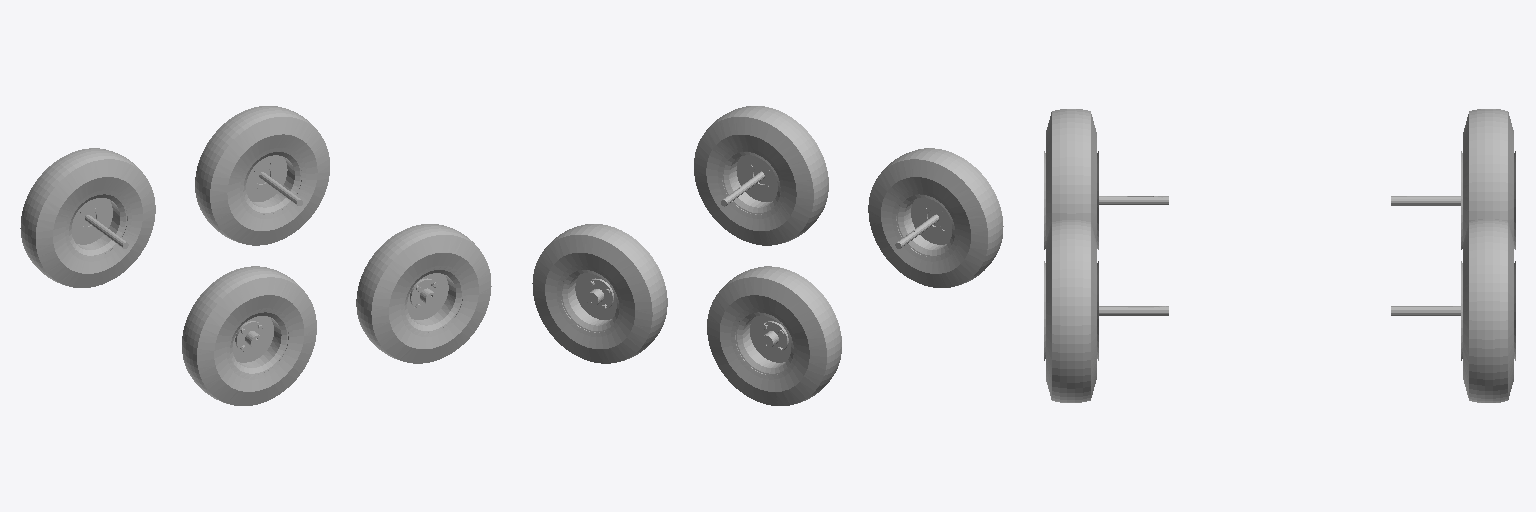
robot.urdf — scipio_simulation:
<robot
  name="scipio_simulation">
  <link
    name="base_link">
    <inertial>
      <origin
        xyz="0.008086959153107 0.174209145980052 -5.10790485504577E-07"
        rpy="0 0 0" />
      <mass
        value="30.6647765845264" />
      <inertia
        ixx="2.53654569364871"
        ixy="-0.0102253079975036"
        ixz="1.17409205479314E-05"
        iyy="4.29925749203646"
        iyz="1.93444165099099E-07"
        izz="2.13275557091149" />
    </inertial>
    <visual>
      <origin
        xyz="0 0 0"
        rpy="0 0 0" />
      <geometry>
        <mesh
          filename="package://scipio_simulation/meshes/base_link.STL" />
      </geometry>
      <material
        name="">
        <color
          rgba="0.752941176470588 0.752941176470588 0.752941176470588 1" />
      </material>
    </visual>
    <collision>
      <origin
        xyz="0 0 0"
        rpy="0 0 0" />
      <geometry>
        <mesh
          filename="package://scipio_simulation/meshes/base_link.STL" />
      </geometry>
    </collision>
  </link>
  <link
    name="front_right_wheel_link">
    <inertial>
      <origin
        xyz="0.24702 -8.6541E-07 -7.5292E-06"
        rpy="0 0 0" />
      <mass
        value="11.018" />
      <inertia
        ixx="0.20289"
        ixy="4.8698E-07"
        ixz="4.2592E-06"
        iyy="0.1147"
        iyz="-8.183E-08"
        izz="0.1147" />
    </inertial>
    <visual>
      <origin
        xyz="0 0 0"
        rpy="0 0 0" />
      <geometry>
        <mesh
          filename="package://scipio_simulation/meshes/front_right_wheel_link.STL" />
      </geometry>
      <material
        name="">
        <color
          rgba="0.75294 0.75294 0.75294 1" />
      </material>
    </visual>
    <collision>
      <origin
        xyz="0 0 0"
        rpy="0 0 0" />
      <geometry>
        <mesh
          filename="package://scipio_simulation/meshes/front_right_wheel_link.STL" />
      </geometry>
    </collision>
  </link>
  <joint
    name="front_right_wheel_joint"
    type="continuous">
    <origin
      xyz="-0.26746 0.17757 0.18923"
      rpy="-3.1282 6.123E-17 1.5708" />
    <parent
      link="base_link" />
    <child
      link="front_right_wheel_link" />
    <axis
      xyz="1 0 0" />
  </joint>
  <link
    name="front_left_wheel_link">
    <inertial>
      <origin
        xyz="0.24702 -6.9913E-07 7.5465E-06"
        rpy="0 0 0" />
      <mass
        value="11.018" />
      <inertia
        ixx="0.20289"
        ixy="3.9801E-07"
        ixz="-4.2684E-06"
        iyy="0.1147"
        iyz="6.9259E-08"
        izz="0.1147" />
    </inertial>
    <visual>
      <origin
        xyz="0 0 0"
        rpy="0 0 0" />
      <geometry>
        <mesh
          filename="package://scipio_simulation/meshes/front_left_wheel_link.STL" />
      </geometry>
      <material
        name="">
        <color
          rgba="0.75294 0.75294 0.75294 1" />
      </material>
    </visual>
    <collision>
      <origin
        xyz="0 0 0"
        rpy="0 0 0" />
      <geometry>
        <mesh
          filename="package://scipio_simulation/meshes/front_left_wheel_link.STL" />
      </geometry>
    </collision>
  </link>
  <joint
    name="front_left_wheel_joint"
    type="continuous">
    <origin
      xyz="-0.26746 -0.17757 0.18923"
      rpy="3.0516 -6.123E-17 -1.5708" />
    <parent
      link="base_link" />
    <child
      link="front_left_wheel_link" />
    <axis
      xyz="-1 0 0" />
  </joint>
  <link
    name="back_right_wheel_link">
    <inertial>
      <origin
        xyz="0.24702 -2.4732E-06 -7.1639E-06"
        rpy="0 0 0" />
      <mass
        value="11.018" />
      <inertia
        ixx="0.20289"
        ixy="1.3965E-06"
        ixz="4.0531E-06"
        iyy="0.1147"
        iyz="-2.2566E-07"
        izz="0.1147" />
    </inertial>
    <visual>
      <origin
        xyz="0 0 0"
        rpy="0 0 0" />
      <geometry>
        <mesh
          filename="package://scipio_simulation/meshes/back_right_wheel_link.STL" />
      </geometry>
      <material
        name="">
        <color
          rgba="0.75294 0.75294 0.75294 1" />
      </material>
    </visual>
    <collision>
      <origin
        xyz="0 0 0"
        rpy="0 0 0" />
      <geometry>
        <mesh
          filename="package://scipio_simulation/meshes/back_right_wheel_link.STL" />
      </geometry>
    </collision>
  </link>
  <joint
    name="back_right_wheel_joint"
    type="continuous">
    <origin
      xyz="0.26746 0.17757 0.18923"
      rpy="-3.0192 6.123E-17 1.5708" />
    <parent
      link="base_link" />
    <child
      link="back_right_wheel_link" />
    <axis
      xyz="1 0 0" />
  </joint>
  <link
    name="back_left_wheel_link">
    <inertial>
      <origin
        xyz="0.24702 -3.7896E-07 7.5693E-06"
        rpy="0 0 0" />
      <mass
        value="11.018" />
      <inertia
        ixx="0.20289"
        ixy="2.1691E-07"
        ixz="-4.2814E-06"
        iyy="0.1147"
        iyz="3.8435E-08"
        izz="0.1147" />
    </inertial>
    <visual>
      <origin
        xyz="0 0 0"
        rpy="0 0 0" />
      <geometry>
        <mesh
          filename="package://scipio_simulation/meshes/back_left_wheel_link.STL" />
      </geometry>
      <material
        name="">
        <color
          rgba="0.75294 0.75294 0.75294 1" />
      </material>
    </visual>
    <collision>
      <origin
        xyz="0 0 0"
        rpy="0 0 0" />
      <geometry>
        <mesh
          filename="package://scipio_simulation/meshes/back_left_wheel_link.STL" />
      </geometry>
    </collision>
  </link>
  <joint
    name="back_left_wheel_joint"
    type="continuous">
    <origin
      xyz="0.26746 -0.17757 0.18923"
      rpy="3.0728 -6.123E-17 -1.5708" />
    <parent
      link="base_link" />
    <child
      link="back_left_wheel_link" />
    <axis
      xyz="-1 0 0" />
  </joint>
</robot>

--- What the picture shows (computed from the rendered views, not written in the file) ---
Views: 3 orthographic renders of the robot side by side, from view 1: azimuth 30°, elevation 25°; view 2: azimuth 150°, elevation 25°; view 3: azimuth 270°, elevation 25°.
Model scipio_simulation with 5 links and 4 joints (4 continuous), rooted at base_link, posed every joint at zero.
Links seen in each view (by area): view 1: front_left_wheel_link, back_right_wheel_link, front_right_wheel_link, back_left_wheel_link; view 2: back_right_wheel_link, front_right_wheel_link, front_left_wheel_link, back_left_wheel_link; view 3: back_right_wheel_link, back_left_wheel_link, front_right_wheel_link, front_left_wheel_link.
Link boxes in pixels (x1=…): front_left_wheel_link: x1=182, y1=266, x2=316, y2=405; back_right_wheel_link: x1=195, y1=106, x2=329, y2=245; front_right_wheel_link: x1=20, y1=148, x2=155, y2=287; back_left_wheel_link: x1=356, y1=224, x2=491, y2=363; back_right_wheel_link: x1=532, y1=224, x2=667, y2=363; front_right_wheel_link: x1=707, y1=266, x2=841, y2=405; front_left_wheel_link: x1=868, y1=148, x2=1003, y2=287; back_left_wheel_link: x1=694, y1=106, x2=828, y2=245; back_right_wheel_link: x1=1391, y1=219, x2=1515, y2=402; back_left_wheel_link: x1=1044, y1=219, x2=1168, y2=402; front_right_wheel_link: x1=1391, y1=109, x2=1515, y2=249; front_left_wheel_link: x1=1044, y1=109, x2=1168, y2=249.
Bounding box of the posed robot: 0.9137 × 0.9666 × 0.3788 m (x, y, z).
Meshes: 5 distinct files referenced, 4 mesh visuals loaded (4 binary STL); not drawn: 1 (reference not matched to a file when rendering).